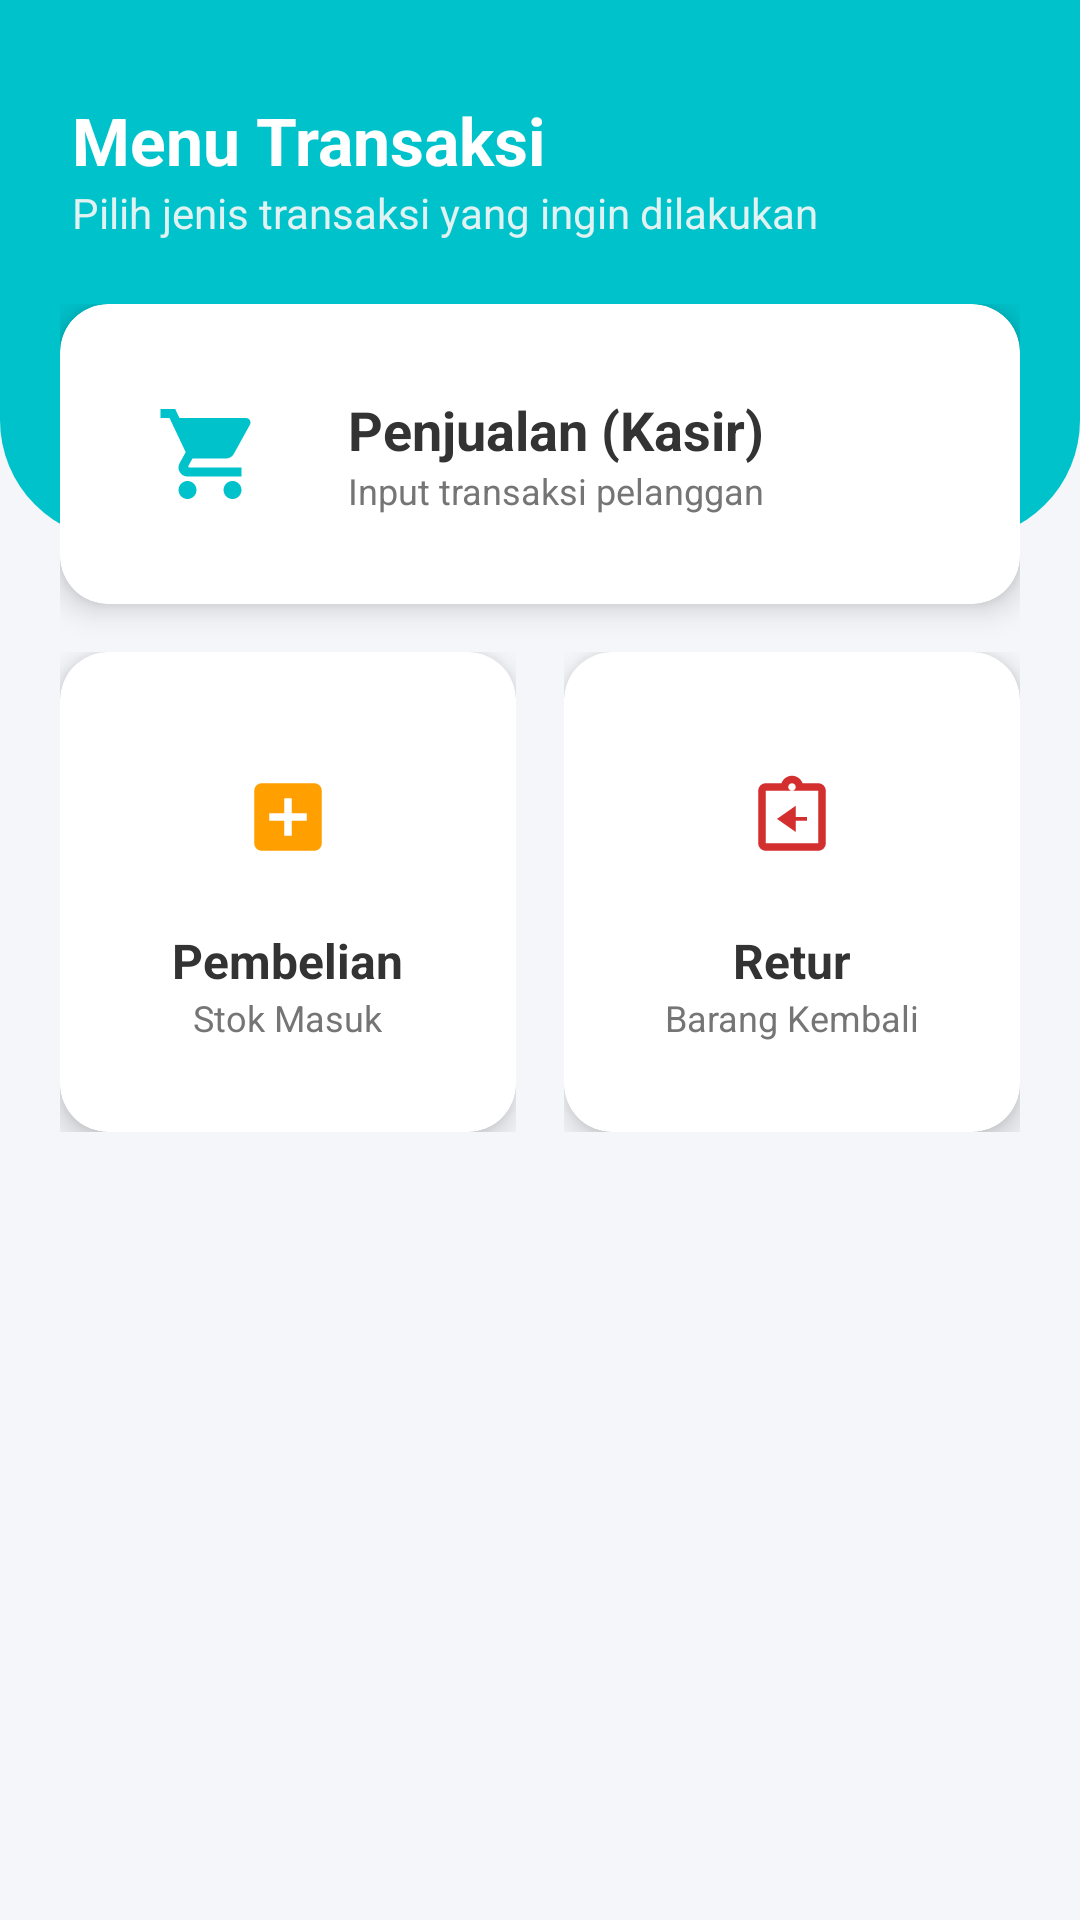

Icons on this 1080 x 1920 Android screen, each with the point to tap as point (x, y):
shopping cart: point (205, 454)
